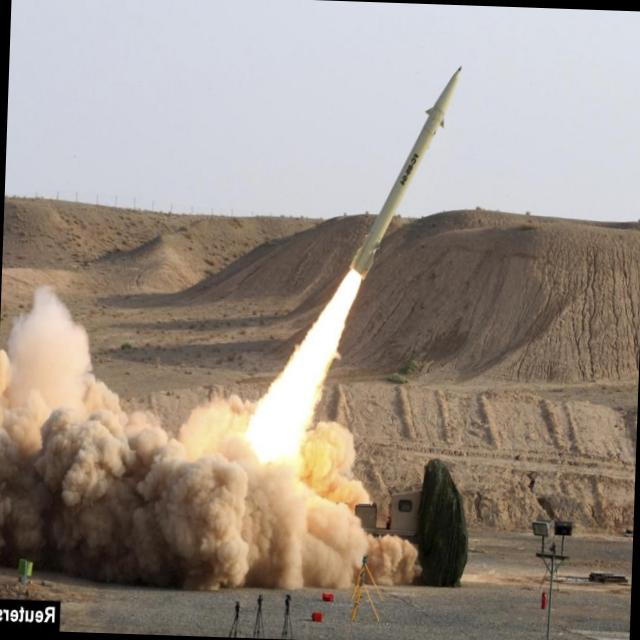rocket: (261, 55, 467, 438)
